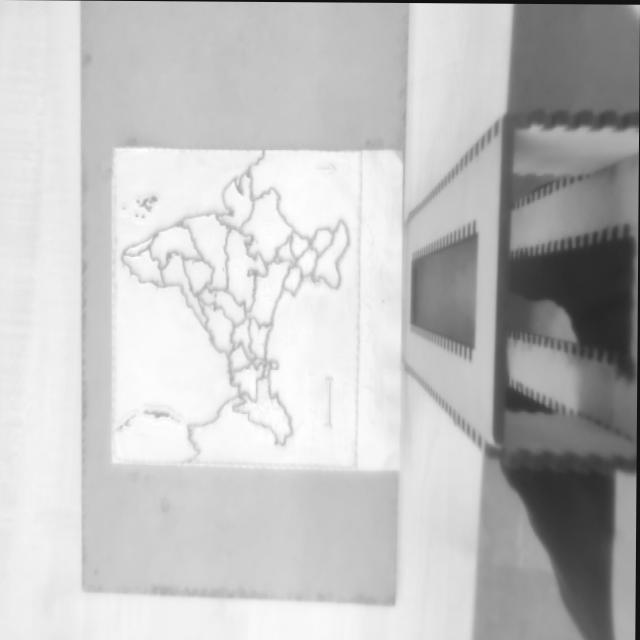map: (108, 148, 362, 469)
